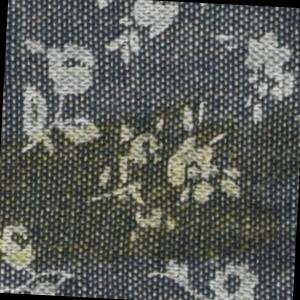Oil Stain: (1, 84, 300, 283)
